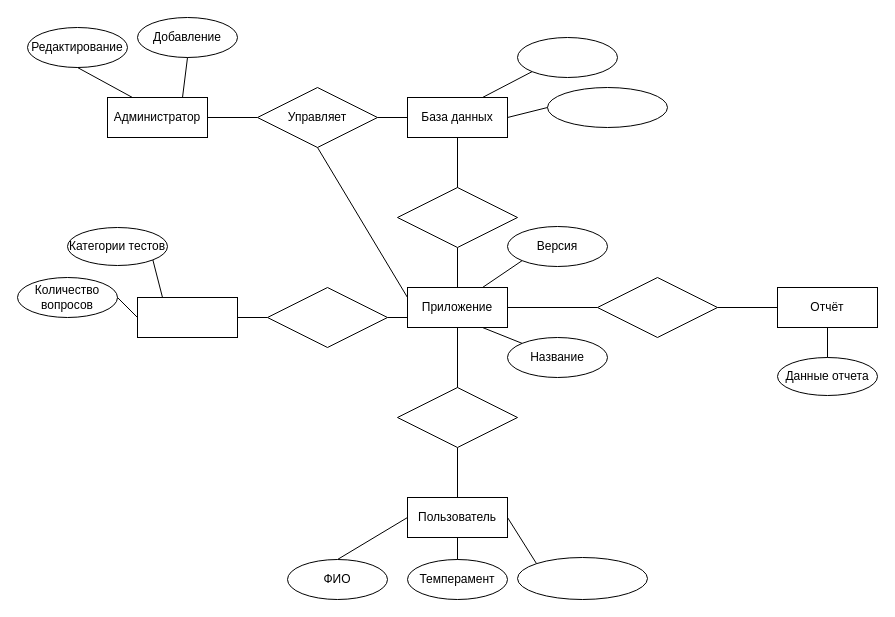
Some shapes in this 895 by 617 pixel diagram are drawn without their labels. The shapes that lost their labels are listed below. From the top down, each one's centre as x and y in pixels, then its label:
the point at 567,57: Информация о пользователе
the point at 607,107: Вопросы к тестам
the point at 457,217: Запрос
the point at 187,317: Тесты
the point at 327,317: Доступ
the point at 657,307: Формирование отчёта
the point at 457,417: Вход в систему
the point at 582,578: Количество пройденных тестов
